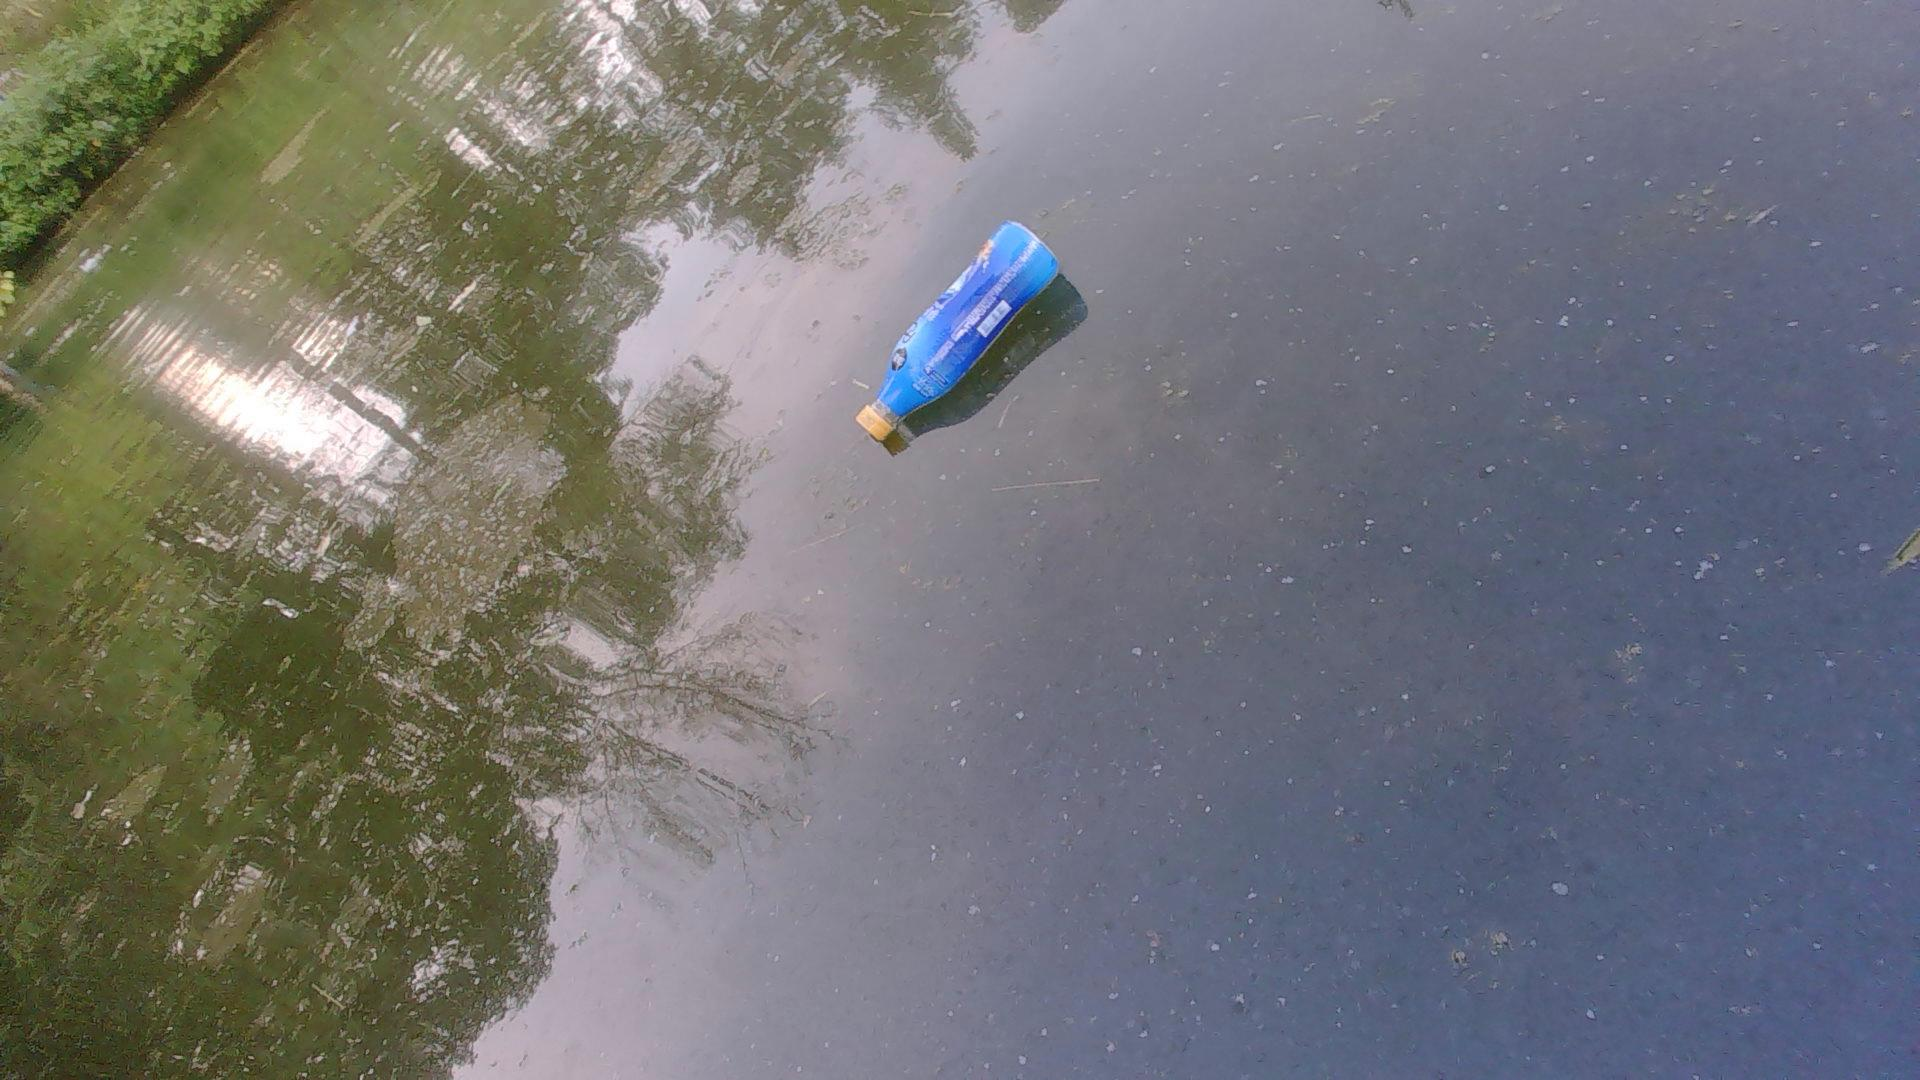Plastic: (848, 215, 1067, 452)
